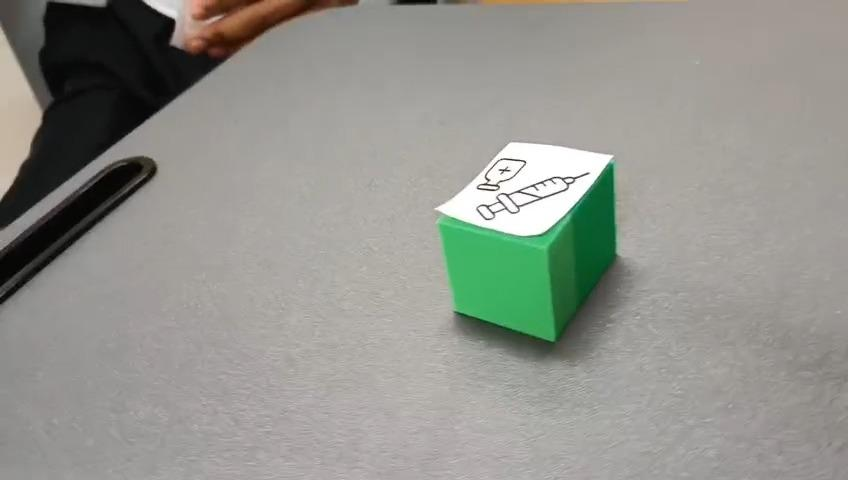antiseptic cream: (432, 139, 618, 343)
